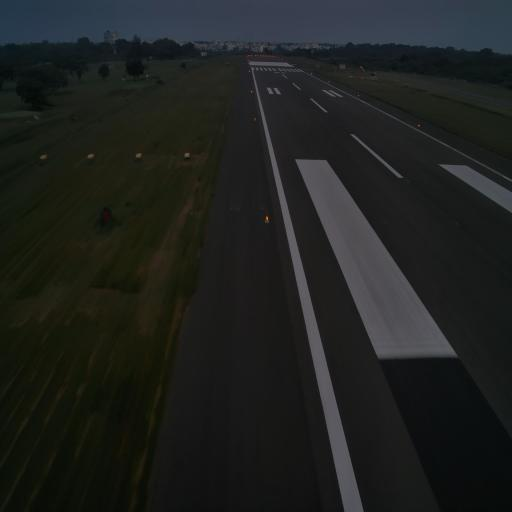off: (407, 176, 411, 186), (454, 220, 459, 228)
on: (264, 212, 270, 228), (416, 121, 421, 128)
